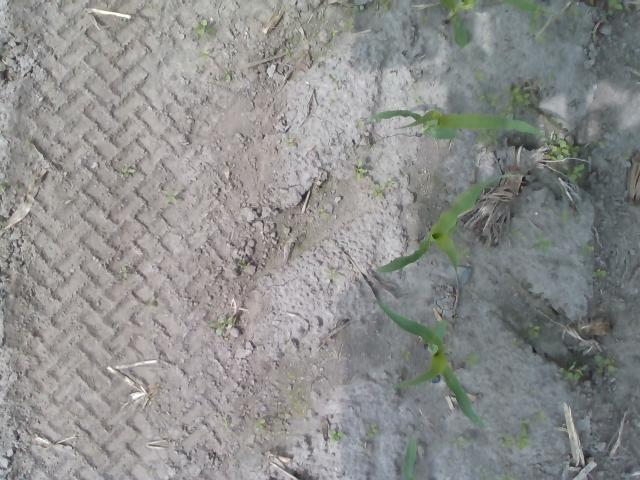Maize: (371, 292, 488, 430), (376, 174, 532, 276), (374, 108, 540, 138), (438, 0, 478, 49), (402, 429, 419, 480)
Weeds: (501, 82, 532, 112), (500, 422, 533, 450), (546, 138, 580, 162), (366, 178, 399, 199), (591, 353, 617, 374), (206, 317, 238, 334), (528, 12, 544, 42), (500, 0, 542, 11), (190, 19, 210, 35), (351, 159, 366, 180), (568, 163, 586, 180), (561, 366, 581, 381), (482, 93, 501, 107), (447, 434, 467, 447), (162, 190, 178, 206), (529, 408, 546, 422), (373, 0, 394, 11), (536, 238, 552, 252), (466, 352, 479, 368), (580, 242, 594, 256), (526, 325, 542, 337), (608, 0, 624, 12), (118, 164, 134, 176), (399, 346, 412, 360), (366, 423, 379, 437), (593, 270, 609, 280), (560, 210, 572, 222), (330, 429, 342, 440), (511, 337, 522, 348), (254, 420, 264, 432), (352, 4, 366, 12), (222, 71, 232, 81)
